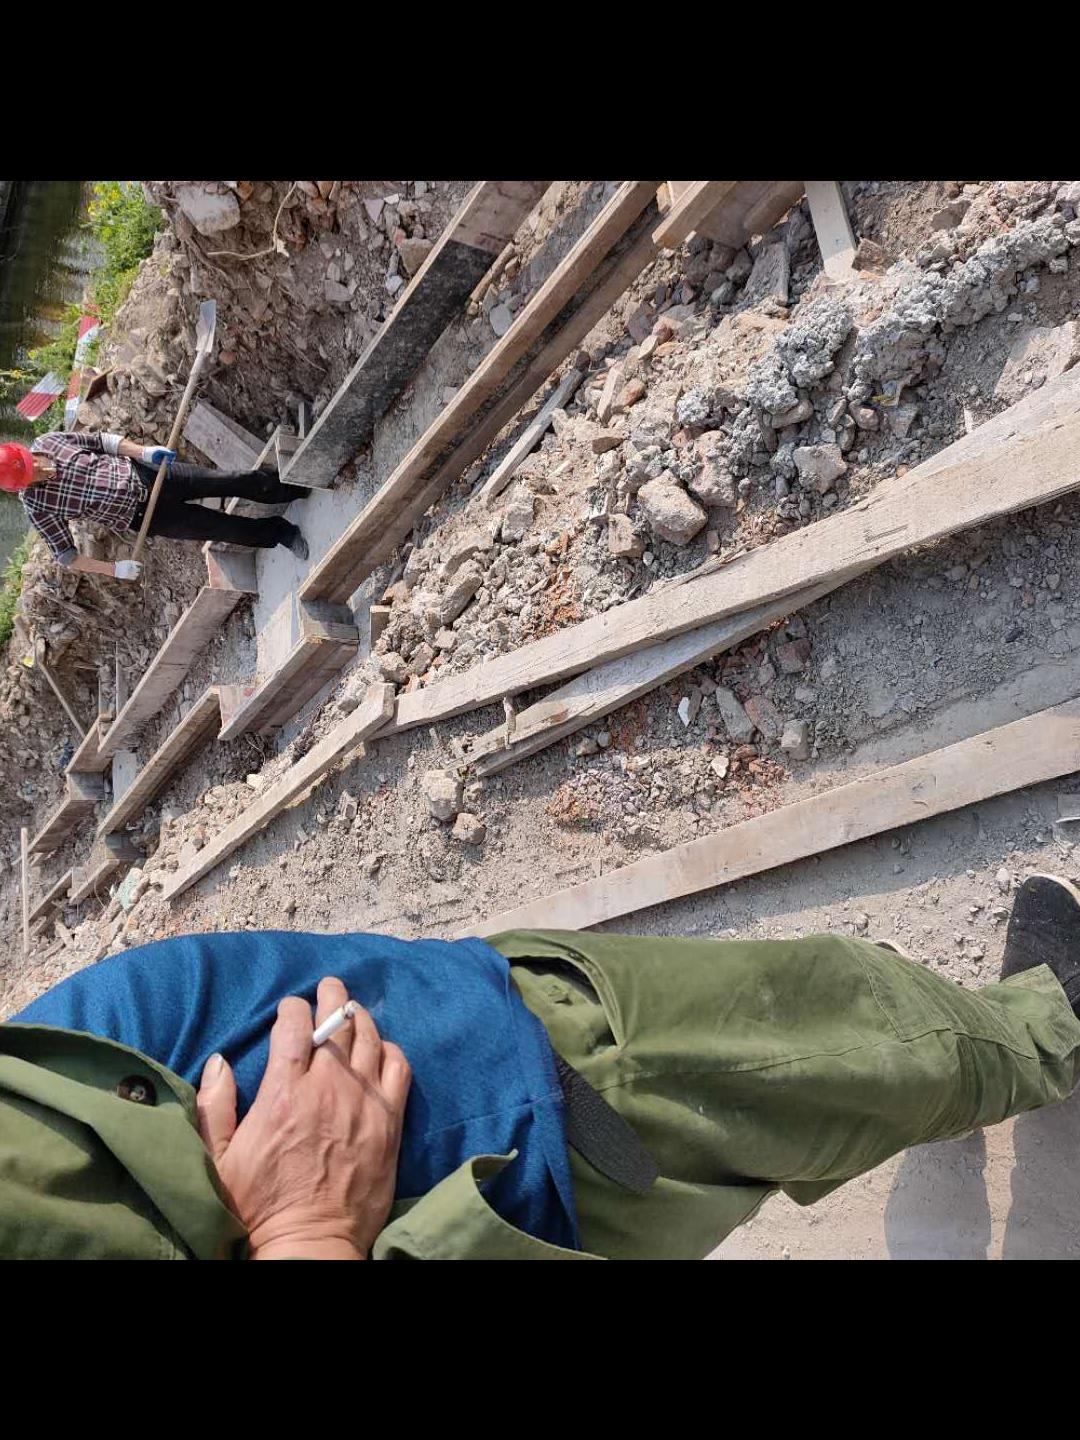Cigarette: (304, 998, 358, 1048)
